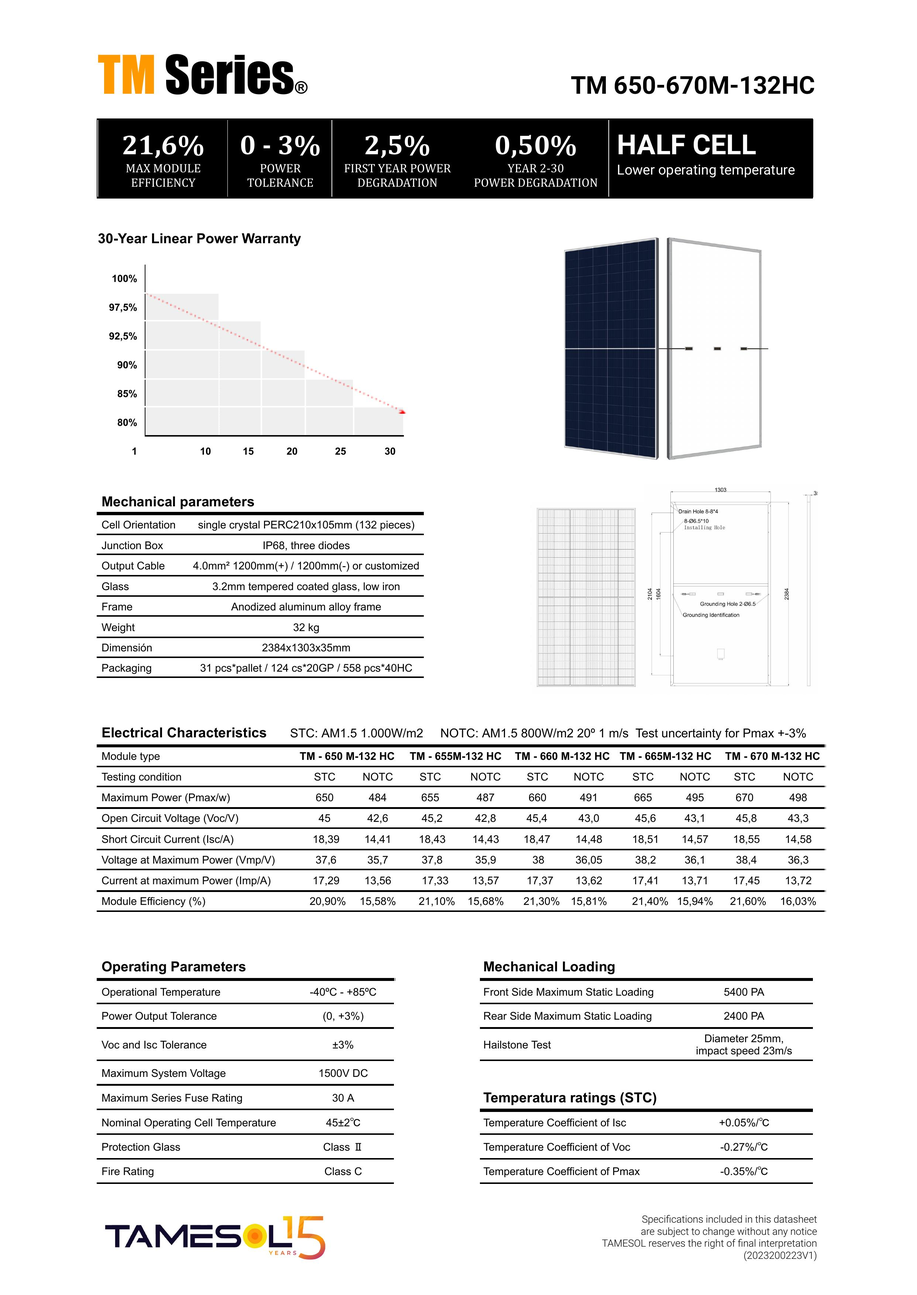table: (90, 720, 839, 915), (82, 955, 408, 1193), (89, 492, 441, 688), (470, 952, 827, 1071), (475, 1084, 828, 1196)
